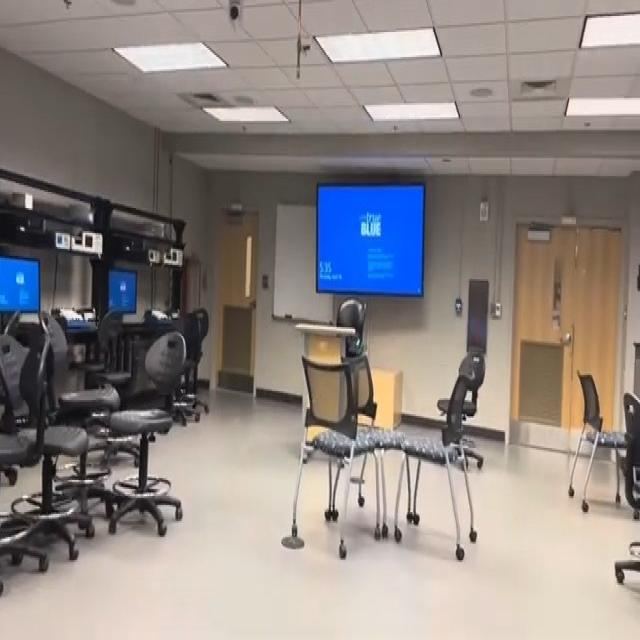drone: (346, 331, 374, 359)
